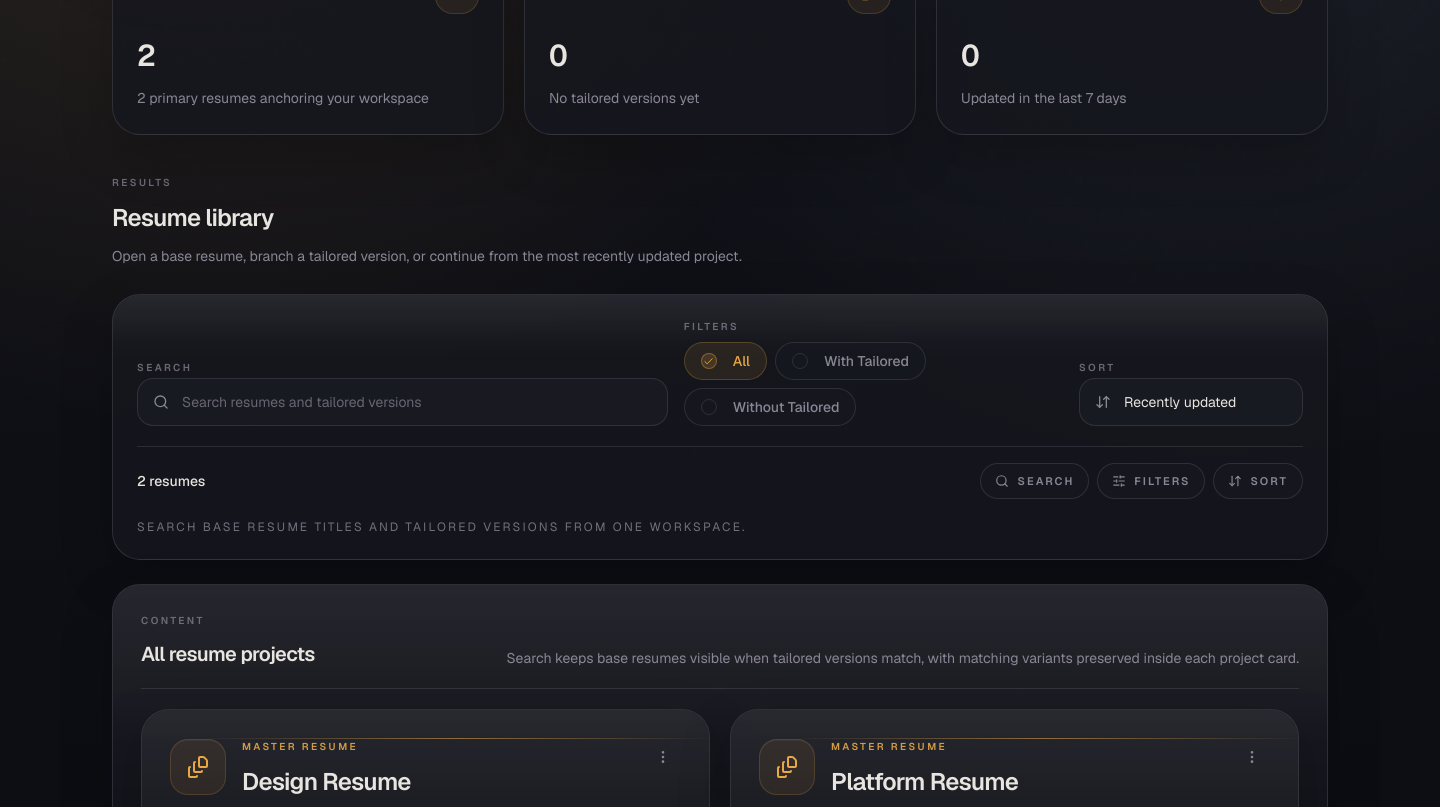
Test case: DashboardPageClient › result summary text › shows the correct summary when a search query is active
(page scrolled)
In the search field labelled "Search": [402, 402] box [137,378,668,426], type "Platform"
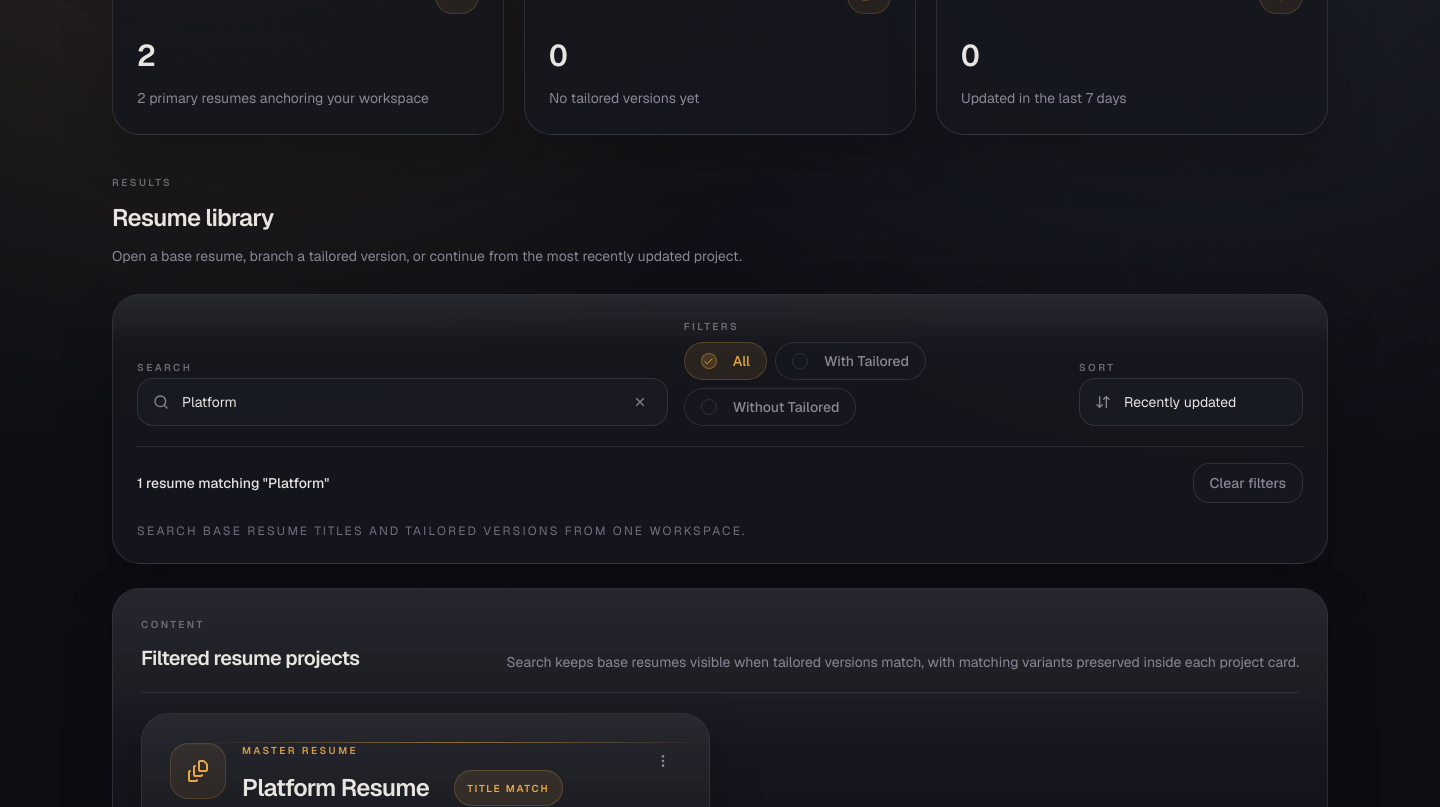
Expected: the text "1 resume matching \"Platform\"" is shown, [137,473,329,493]
